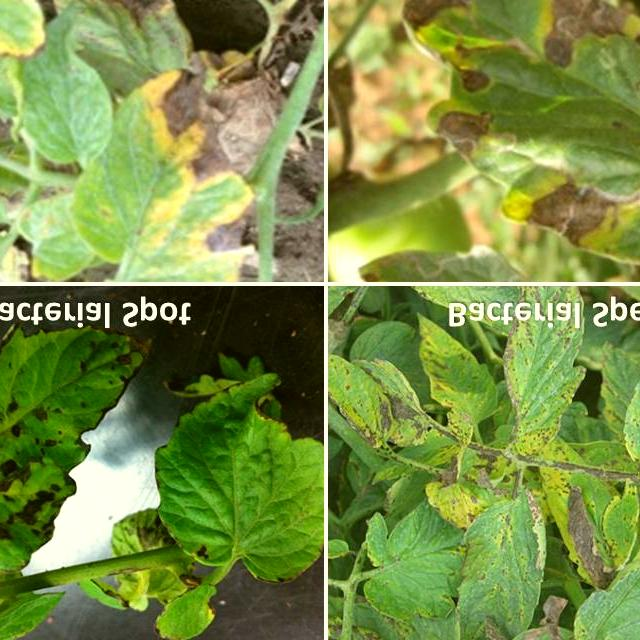Tomato Early blight leaf: (0, 0, 270, 271), (127, 344, 322, 575), (0, 305, 146, 573), (486, 291, 593, 479), (443, 473, 557, 640), (577, 449, 640, 640), (596, 488, 640, 579), (611, 369, 640, 486)
